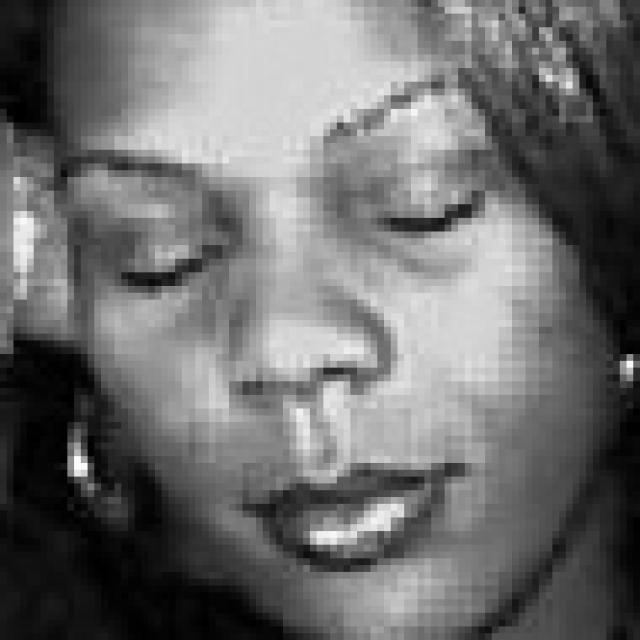real: (46, 6, 616, 608), (108, 142, 566, 312)
